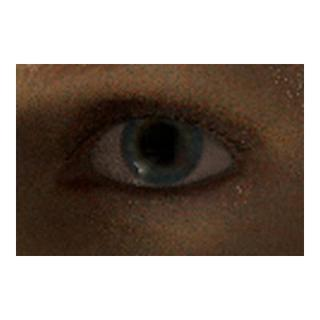pupil: (141, 124, 180, 163)
